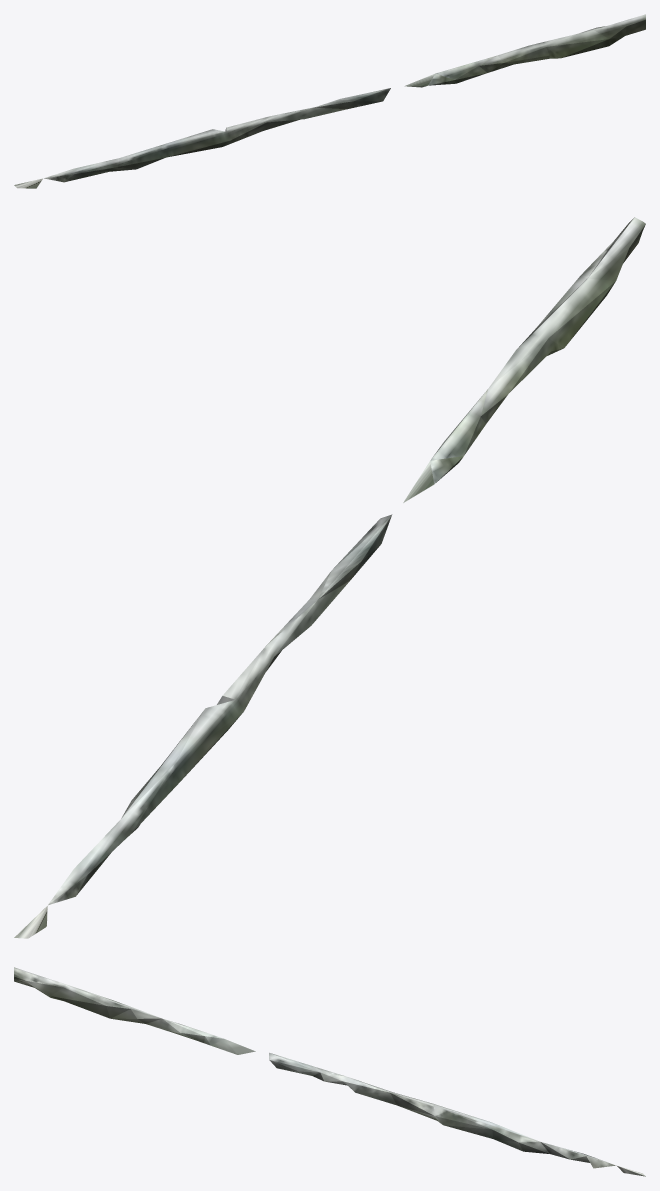
3 renders of one model, top to bottom at view 1: azimuth 90°, elevation 25°; view 2: azimuth 150°, elevation 25°; view 3: azimuth 270°, elevation 25°, orthographic. The views are drawn at different scales.
Bounding box in the file's own units: 0.4657 × 1.83 × 5.52.
Materials: 1 (1 with a texture image).
